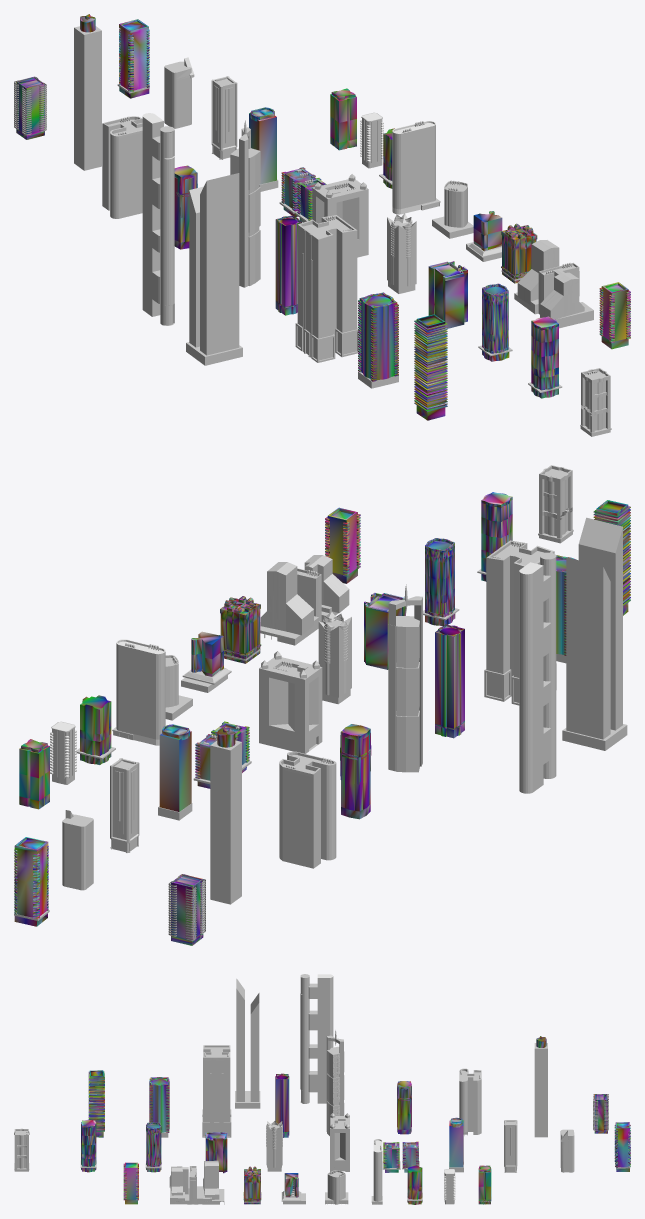
3 renders of one model, top to bottom at view 1: azimuth 30°, elevation 25°; view 2: azimuth 150°, elevation 25°; view 3: azimuth 270°, elevation 25°, orthographic. The views are drawn at different scales.
Parts seen in each view (by area): view 1: Atlas (×17), Atlas11 (×7), Atlas_14 (×6), Atlas_10 (×3), Atlas_13 (×2), Atlas_11, blinn7; view 2: Atlas (×17), Atlas11 (×7), Atlas_14 (×5), Atlas_10 (×3), Atlas_11 (×2), Atlas_13 (×2), blinn7; view 3: Atlas (×15), Atlas11 (×6), Atlas_14 (×6), Atlas_10 (×3), Atlas_11 (×2), Atlas_13.
Part boxes in pixels (bbox=[...]): Atlas (×17): bbox=[14, 76, 584, 420]; Atlas11 (×7): bbox=[74, 26, 537, 288]; Atlas_14 (×6): bbox=[119, 19, 610, 432]; Atlas_10 (×3): bbox=[275, 215, 630, 353]; Atlas_13 (×2): bbox=[211, 76, 382, 162]; Atlas_11: bbox=[174, 165, 197, 242]; blinn7: bbox=[14, 77, 46, 134]; Atlas (×17): bbox=[116, 497, 630, 945]; Atlas11 (×7): bbox=[19, 584, 422, 904]; Atlas_14 (×5): bbox=[14, 465, 576, 918]; Atlas_10 (×3): bbox=[325, 507, 464, 728]; Atlas_11 (×2): bbox=[80, 695, 371, 811]; Atlas_13 (×2): bbox=[51, 721, 139, 841]; blinn7: bbox=[168, 874, 205, 939]; Atlas (×15): bbox=[81, 974, 607, 1201]; Atlas11 (×6): bbox=[243, 1030, 574, 1204]; Atlas_14 (×6): bbox=[14, 1077, 630, 1169]; Atlas_10 (×3): bbox=[123, 1073, 289, 1200]; Atlas_11 (×2): bbox=[397, 1081, 422, 1199]; Atlas_13: bbox=[504, 1120, 517, 1166].
Bounding box in the file's own units: 9.39 × 5.09 × 22.54.
